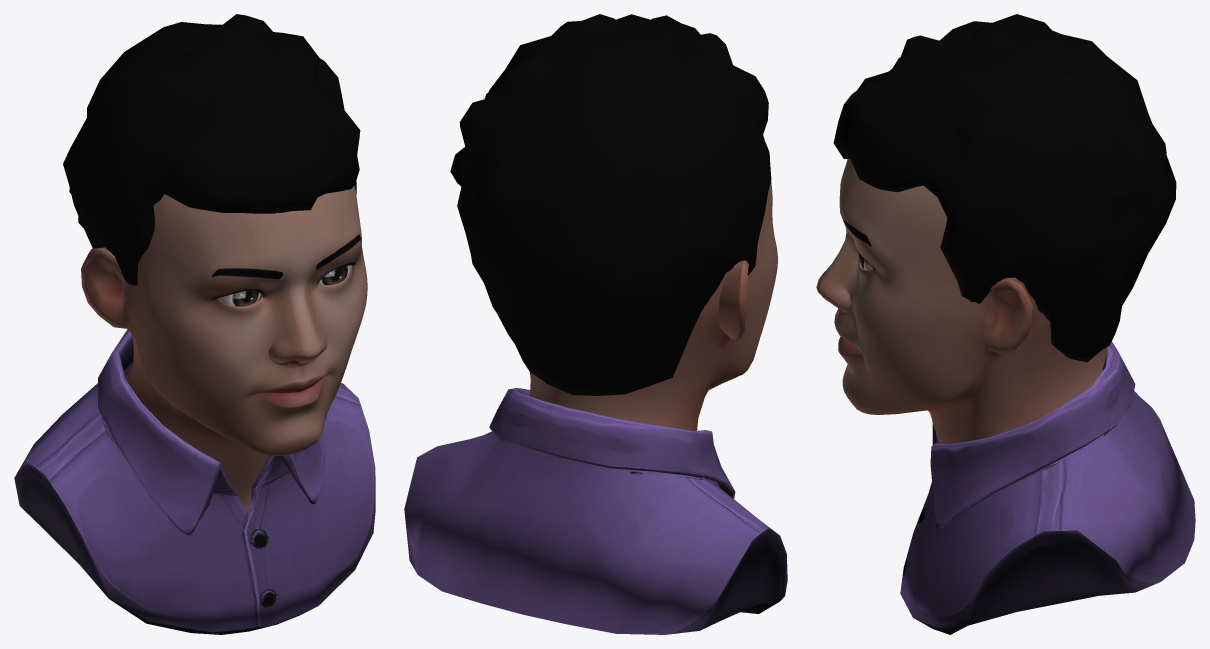
Rendered from pranit.glb.
The picture shows the model from 3 angles, left to right: view 1: azimuth 30°, elevation 25°; view 2: azimuth 150°, elevation 25°; view 3: azimuth 270°, elevation 25°; orthographic projection. The views are drawn at different scales.
Visible parts, largest first — view 1: Wolf3D_Shirt, Wolf3D_Head, Wolf3D_Hair; view 2: Wolf3D_Hair, Wolf3D_Shirt, Wolf3D_Head; view 3: Wolf3D_Hair, Wolf3D_Shirt, Wolf3D_Head.
Part boxes in pixels (x1=…): Wolf3D_Shirt: x1=14, y1=329, x2=375, y2=634; Wolf3D_Head: x1=81, y1=185, x2=367, y2=513; Wolf3D_Hair: x1=63, y1=14, x2=360, y2=285; Wolf3D_Hair: x1=450, y1=14, x2=771, y2=395; Wolf3D_Shirt: x1=404, y1=388, x2=787, y2=634; Wolf3D_Head: x1=529, y1=181, x2=778, y2=430; Wolf3D_Hair: x1=833, y1=14, x2=1176, y2=362; Wolf3D_Shirt: x1=900, y1=341, x2=1195, y2=634; Wolf3D_Head: x1=816, y1=159, x2=1107, y2=444.
Bounding box in the file's own units: 0.2312 × 0.3887 × 0.2356.
Materials: 5 (5 with a texture image).
